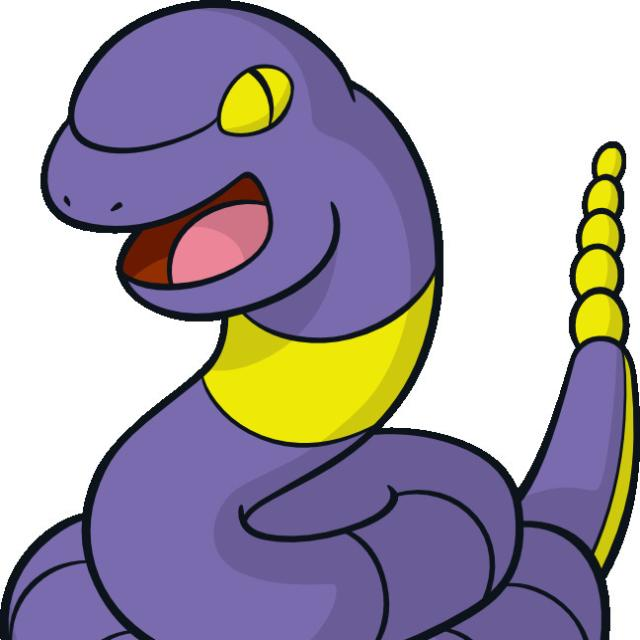Ekans: (52, 15, 640, 627)
